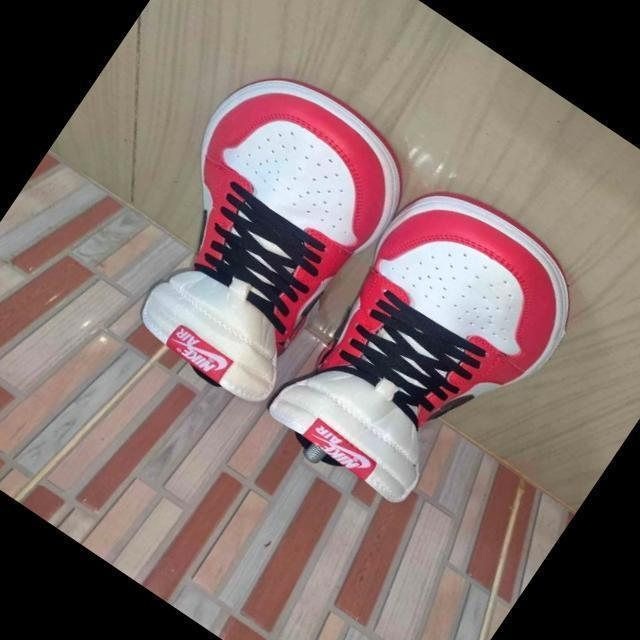nike fake jordan 1: (246, 155, 610, 548), (90, 49, 430, 417)
